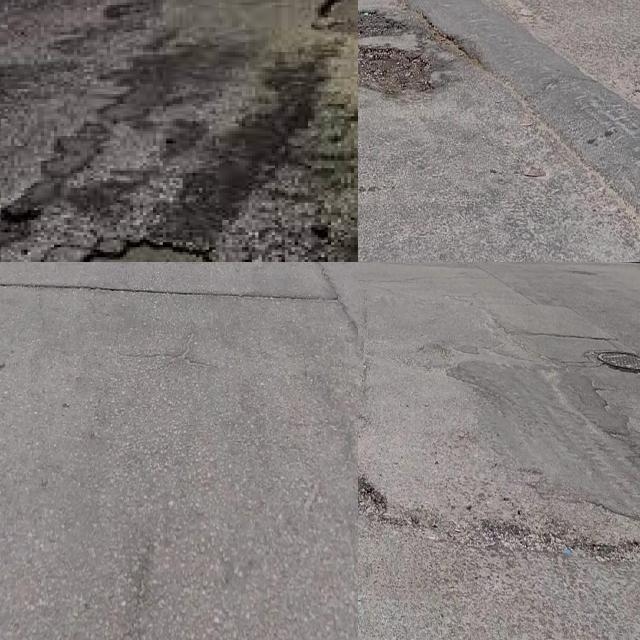Pothole: (0, 124, 107, 245), (358, 48, 433, 94), (358, 469, 388, 523), (358, 8, 407, 37)
Unmarked Bump: (406, 0, 640, 214)
